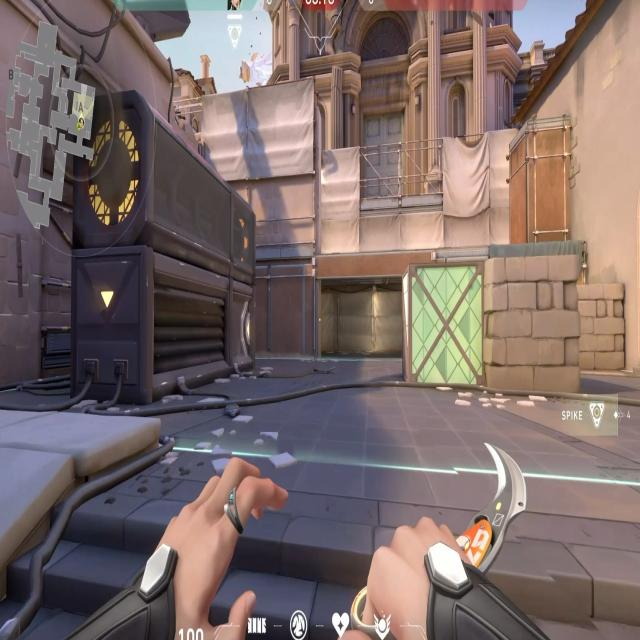A_Heaven_Box: (508, 123, 574, 249)
A_Heaven_Wall: (196, 96, 322, 258)
A_Hell: (299, 253, 450, 369)
A_Site_Box: (404, 272, 584, 381)
